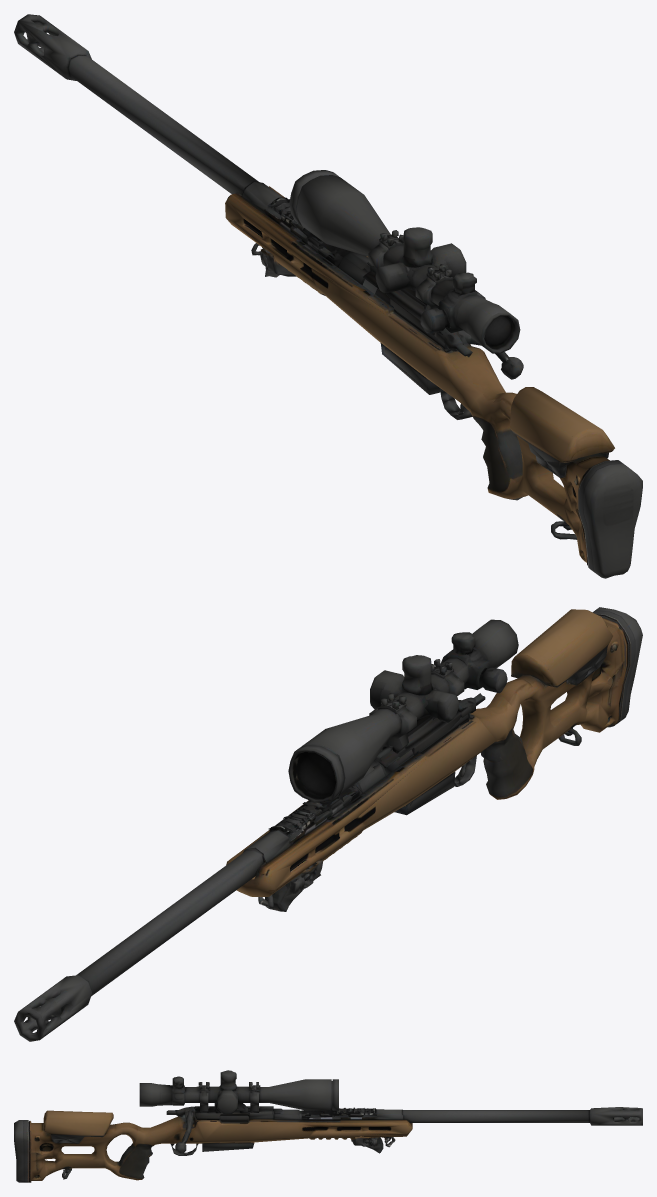
3 views of the same model, one above another, from view 1: azimuth 30°, elevation 25°; view 2: azimuth 150°, elevation 25°; view 3: azimuth 270°, elevation 25° (orthographic). The views are drawn at different scales.
Parts seen in each view (by area): view 1: tripo_node_a0406c04-419a-4779-bbda-8f02037a275c; view 2: tripo_node_a0406c04-419a-4779-bbda-8f02037a275c; view 3: tripo_node_a0406c04-419a-4779-bbda-8f02037a275c.
Boxes of the visible parts, x1,y1,x2,y2 form: tripo_node_a0406c04-419a-4779-bbda-8f02037a275c: (14,14,642,578); tripo_node_a0406c04-419a-4779-bbda-8f02037a275c: (14,607,642,1041); tripo_node_a0406c04-419a-4779-bbda-8f02037a275c: (14,1070,642,1182).
Size of the model in its own units: 0.5557 by 1.1 by 5.79.
Materials: 1 (1 with a texture image).
